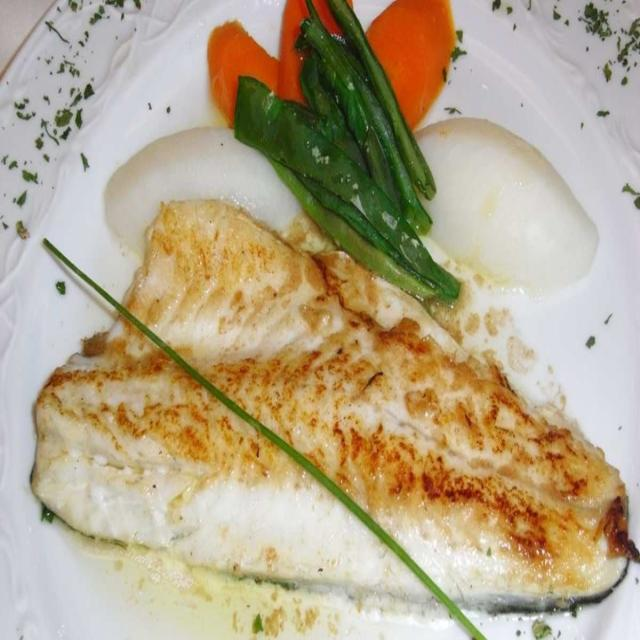pescado: (27, 194, 634, 616)
